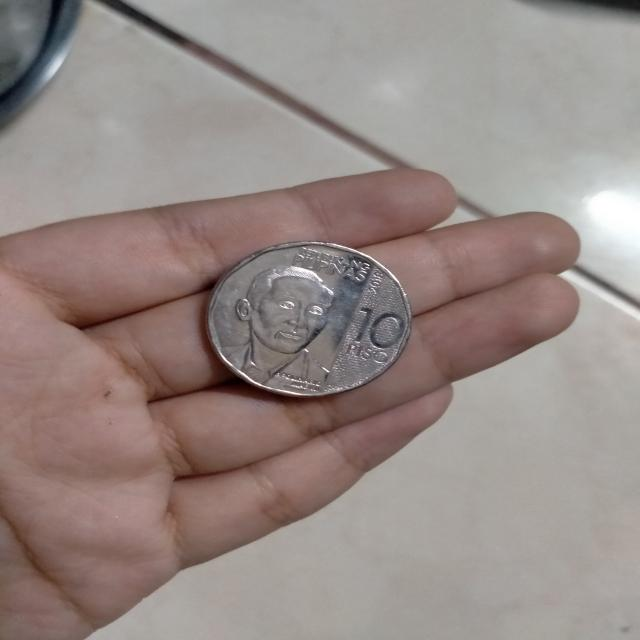10_New_Front: (230, 248, 402, 389)
